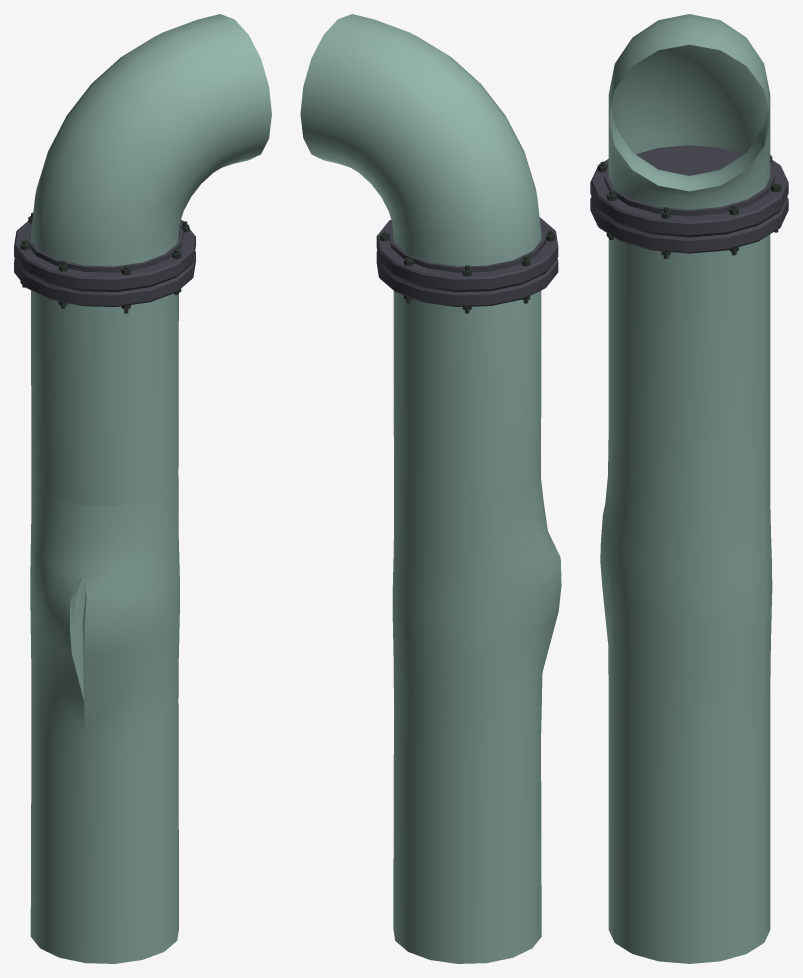
The model's file is PipeComplexLarge_A2_16B.fbx.
3 renders of one model, left to right at view 1: azimuth 30°, elevation 25°; view 2: azimuth 150°, elevation 25°; view 3: azimuth 270°, elevation 25°, orthographic. The views are drawn at different scales.
Parts seen in each view (by area): view 1: PipeComplexLarge_A2_16B.001; view 2: PipeComplexLarge_A2_16B.001; view 3: PipeComplexLarge_A2_16B.001.
Part boxes in pixels (x1,y1,x2,y2): PipeComplexLarge_A2_16B.001: (14,14,271,963); PipeComplexLarge_A2_16B.001: (300,14,561,963); PipeComplexLarge_A2_16B.001: (590,14,788,963).
Bounding box in the file's own units: 0.3225 × 1.3 × 0.245.
